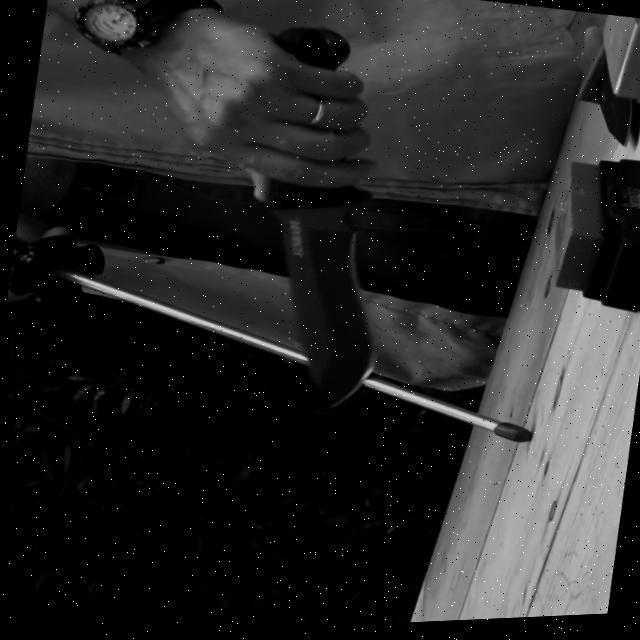knife: (209, 19, 425, 424), (540, 12, 640, 157)
